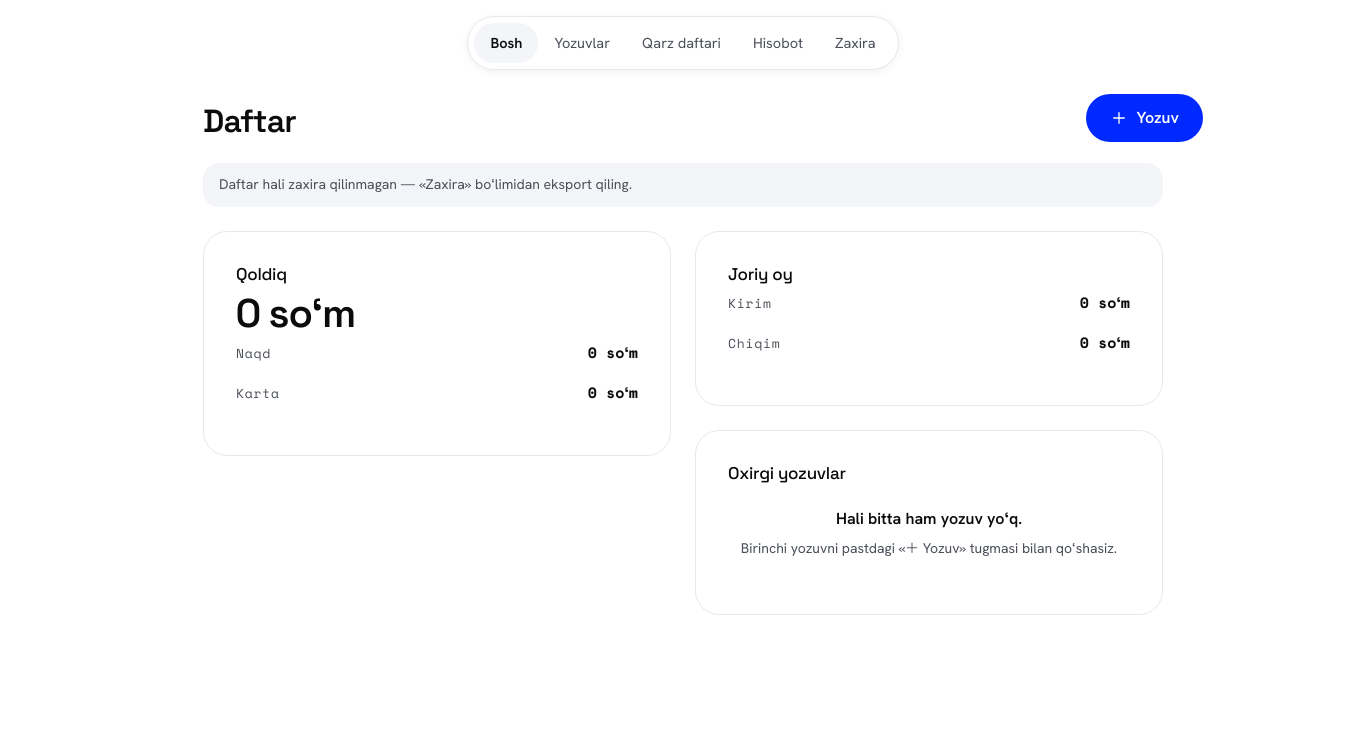
it: ilova bosh sahifa bilan ochiladi; «＋ Yozuv» formani ochadi, `×` boshga qaytaradi
The width and height of the screenshot is (1366, 747).
Expected: the heading "Daftar" is shown, 203,101 -> 296,141
Click the button "Bosh" at (506, 43), box 474,23 -> 538,63
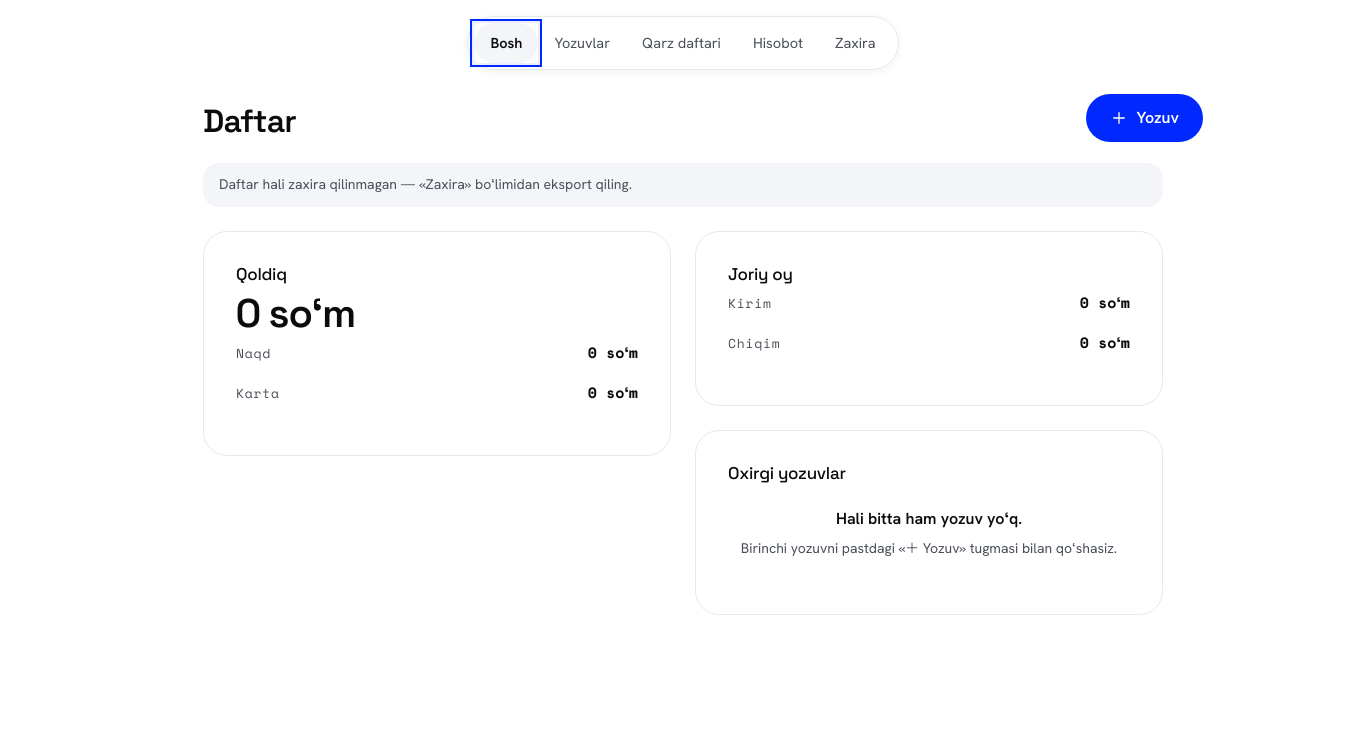
Click the button named "＋ Yozuv" at (1145, 118), box 1086,94 -> 1203,142
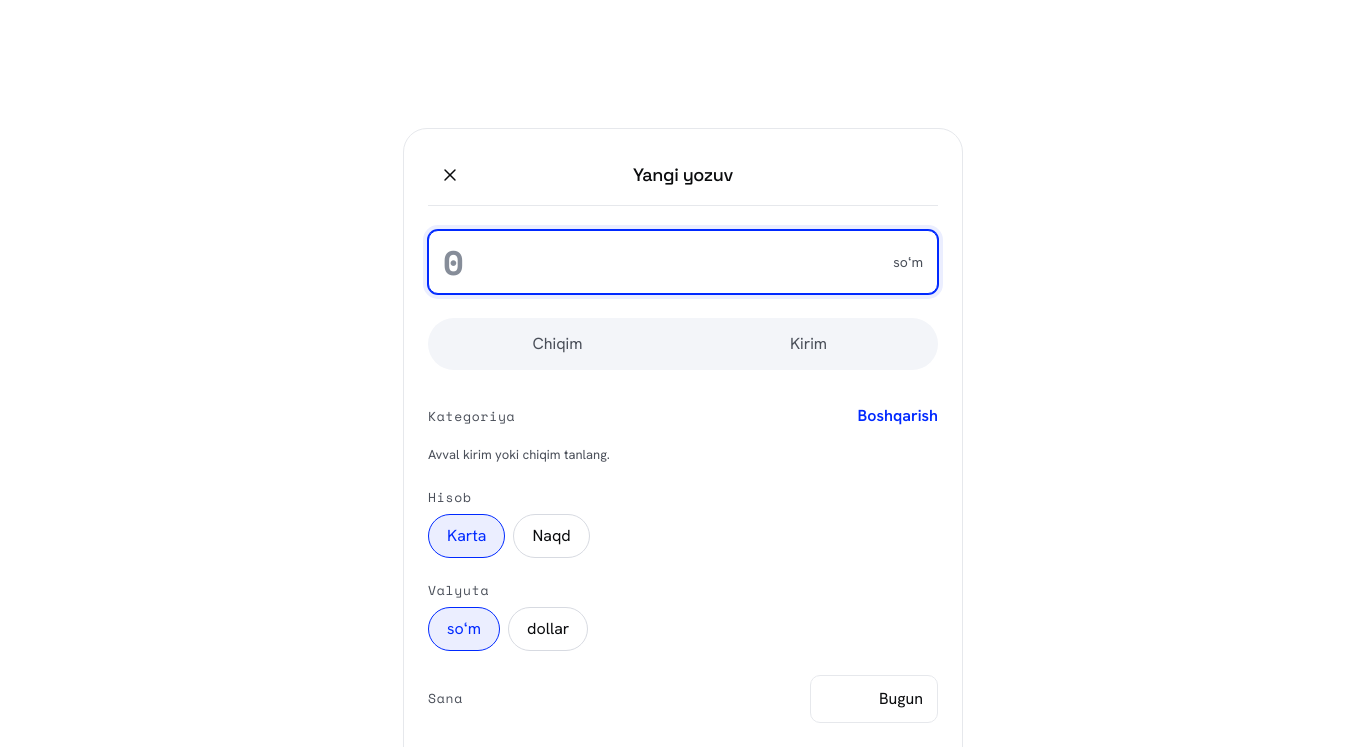
Now the heading "Yangi yozuv" is shown, box 633,164 -> 733,186
Now the navigation bar is gone
Click the button named "Yopish" at (450, 175), box 428,153 -> 472,197
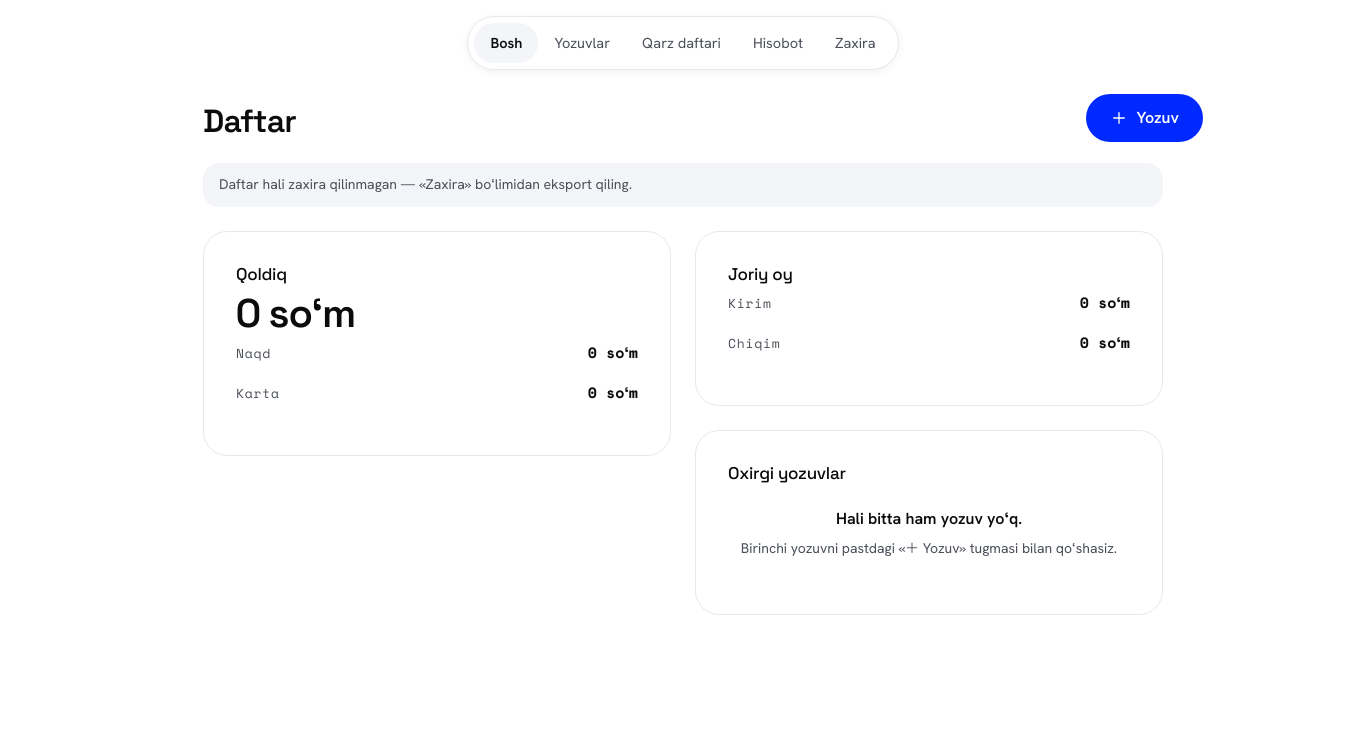
Now the heading "Daftar" is shown, box 203,101 -> 296,141
Now the navigation bar is shown, box 467,16 -> 899,70
